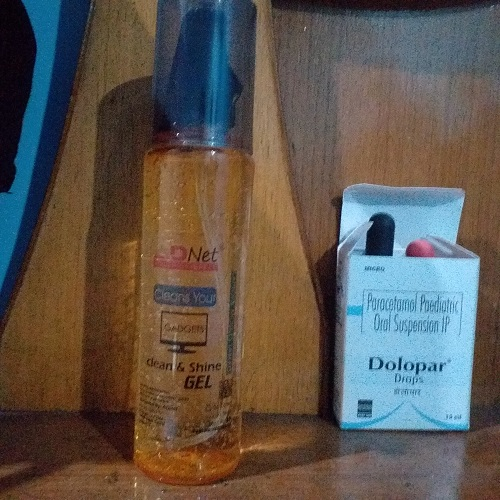spray: (124, 1, 271, 491)
